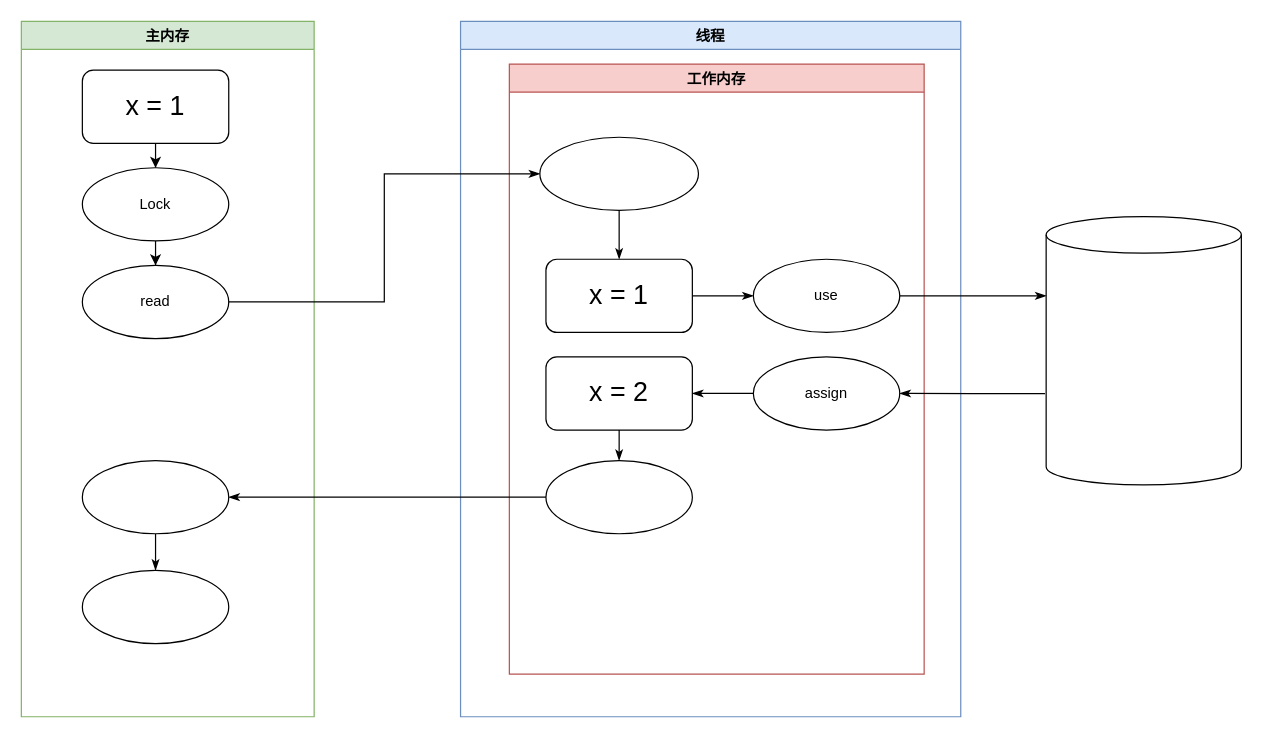
Image size: 1263x738. Some labels were removed from this diagram. The centre of each missing label's shape, as x and y in pixels:
"load" goes at point (618, 173).
"store" goes at point (618, 496).
"unlock" goes at point (155, 606).
"write" goes at point (155, 496).
"字节码执行引擎" goes at point (1143, 350).
